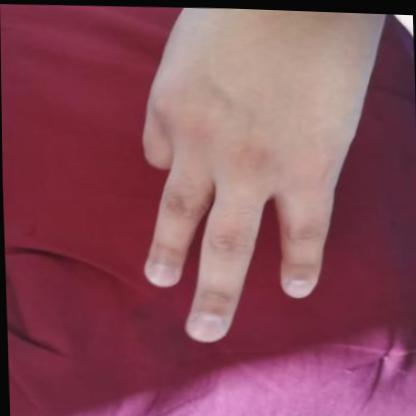M: (107, 3, 396, 360)
